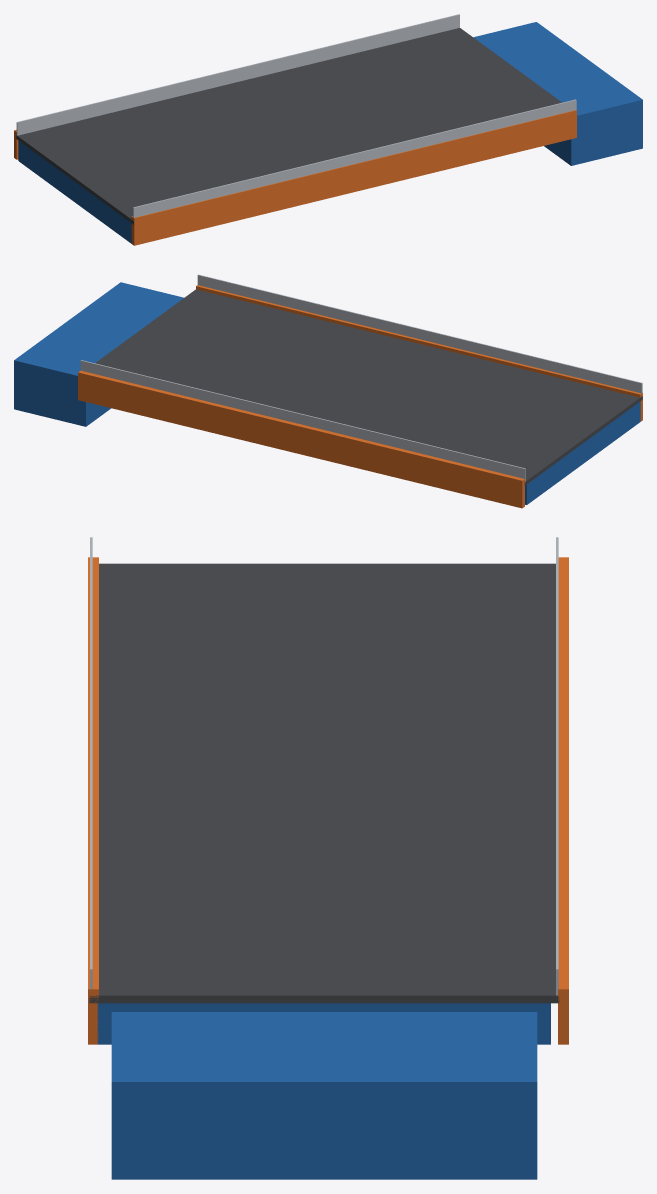
The model's file is leaf-fremont.glb.
3 renders of one model, top to bottom at view 1: azimuth 30°, elevation 25°; view 2: azimuth 150°, elevation 25°; view 3: azimuth 270°, elevation 25°, orthographic. The views are drawn at different scales.
Parts seen in each view (by area): view 1: leaf; view 2: leaf; view 3: leaf.
Part boxes in pixels (left/top/right/bottom): leaf: left=14, top=14, right=642, bottom=245; leaf: left=14, top=274, right=642, bottom=508; leaf: left=88, top=537, right=568, bottom=1179.
Size of the model in its own units: 43 by 5.6 by 17.4.
